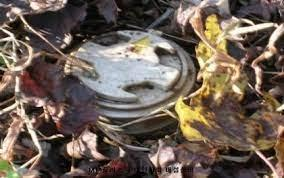pmn: (60, 29, 197, 139)
